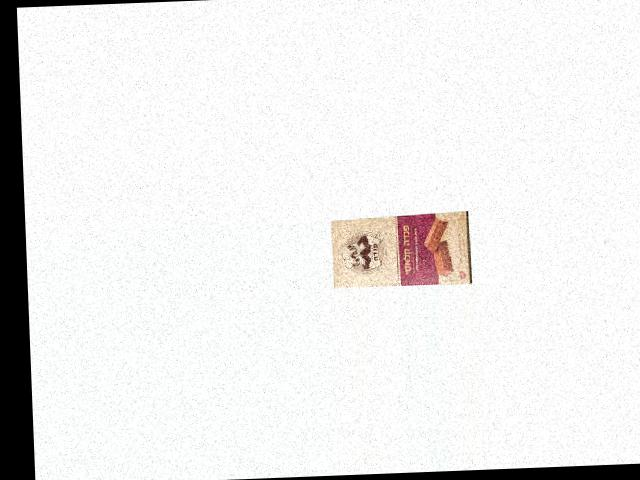chocolate: (329, 208, 472, 287)
